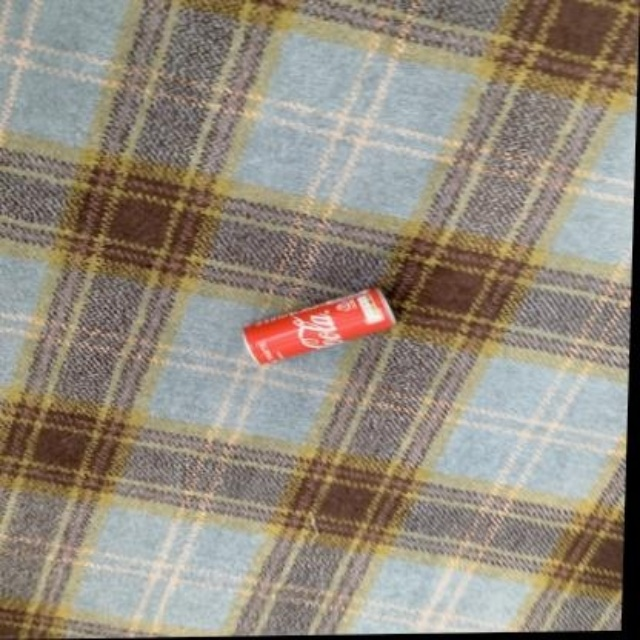trash: (243, 288, 394, 363)
